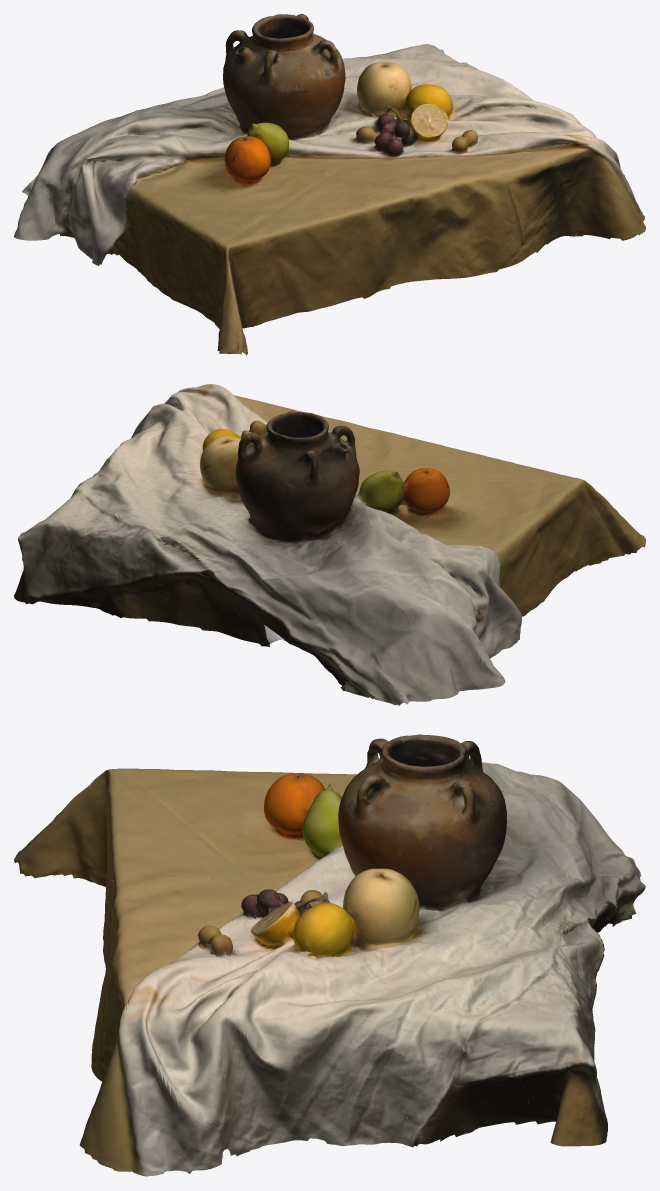
The model's file is 静物_水果_陶罐水果01_opt.glb.
The picture shows the model from 3 angles, top to bottom: view 1: azimuth 30°, elevation 25°; view 2: azimuth 150°, elevation 25°; view 3: azimuth 270°, elevation 25°; orthographic projection. The views are drawn at different scales.
Visible parts, largest first — view 1: defaultMat, defaultMat_1; view 2: defaultMat, defaultMat_1; view 3: defaultMat, defaultMat_1.
Part boxes in pixels (<box>): defaultMat: <box>14,14,645,355</box>; defaultMat_1: <box>20,18,642,354</box>; defaultMat: <box>14,384,645,705</box>; defaultMat_1: <box>14,384,644,701</box>; defaultMat: <box>14,734,645,1176</box>; defaultMat_1: <box>14,736,645,1169</box>.
Size of the model in its own units: 2 by 0.7 by 1.59.
Materials: 1 (1 with a texture image).
